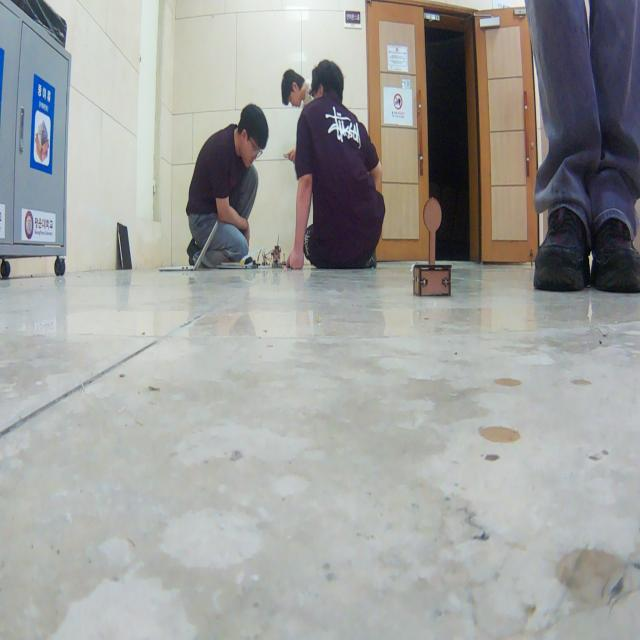target: (412, 196, 452, 297)
